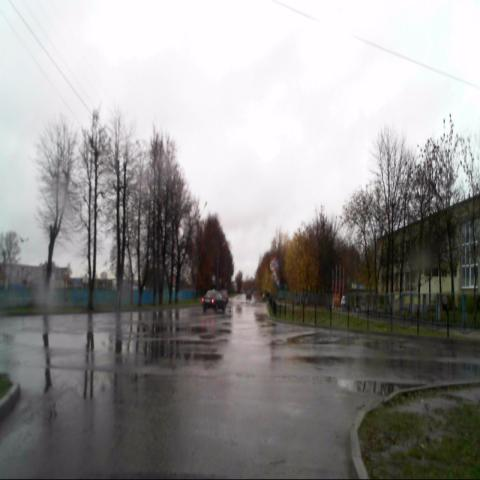1_17: (271, 268, 278, 281)
3_24: (269, 257, 276, 271)
